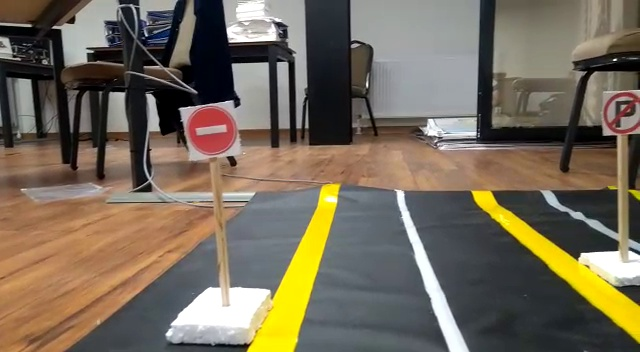girisi_olmayan_yol: (187, 108, 240, 155)
park_yapilmaz: (601, 91, 640, 134)
